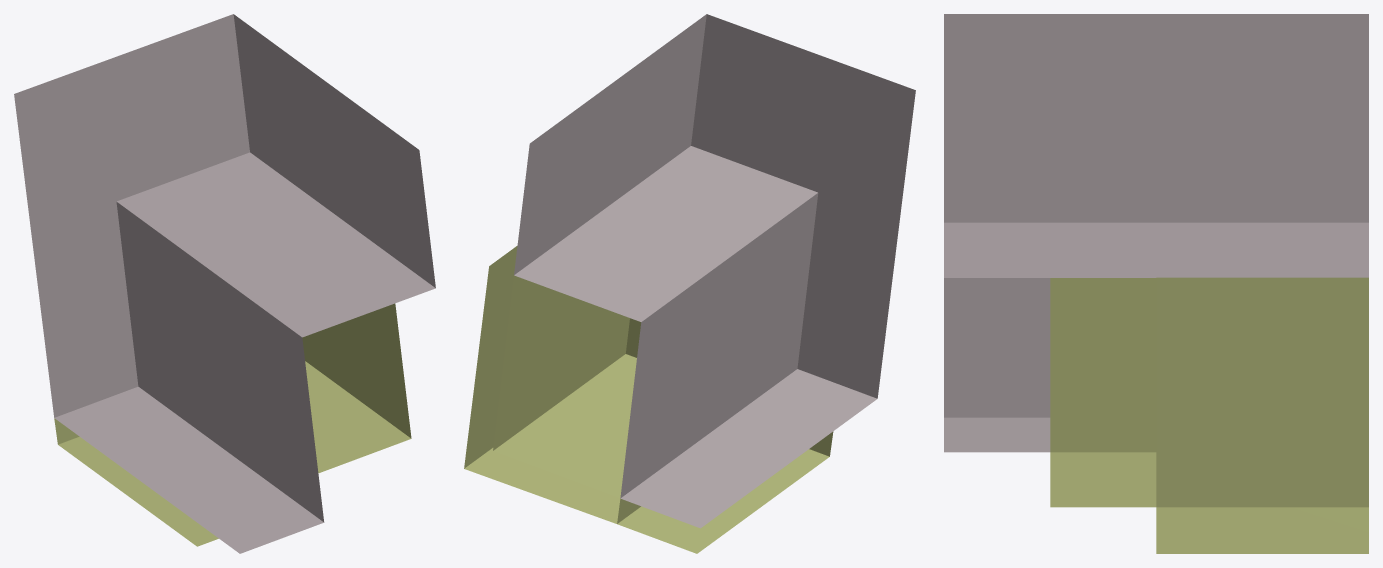
3 views of the same model, side by side, from view 1: azimuth 30°, elevation 25°; view 2: azimuth 150°, elevation 25°; view 3: azimuth 270°, elevation 25° (orthographic). The views are drawn at different scales.
Visible parts, largest first — view 1: 0_1_2_3_3_3_0_3_3_0_3; view 2: 0_1_2_3_3_3_0_3_3_0_3; view 3: 0_1_2_3_3_3_0_3_3_0_3.
Part boxes in pixels (left/top/right/bottom): 0_1_2_3_3_3_0_3_3_0_3: left=14, top=14, right=435, bottom=553; 0_1_2_3_3_3_0_3_3_0_3: left=464, top=14, right=915, bottom=553; 0_1_2_3_3_3_0_3_3_0_3: left=944, top=14, right=1368, bottom=553.
Bounding box in the file's own units: 10.75 × 13.82 × 12.
